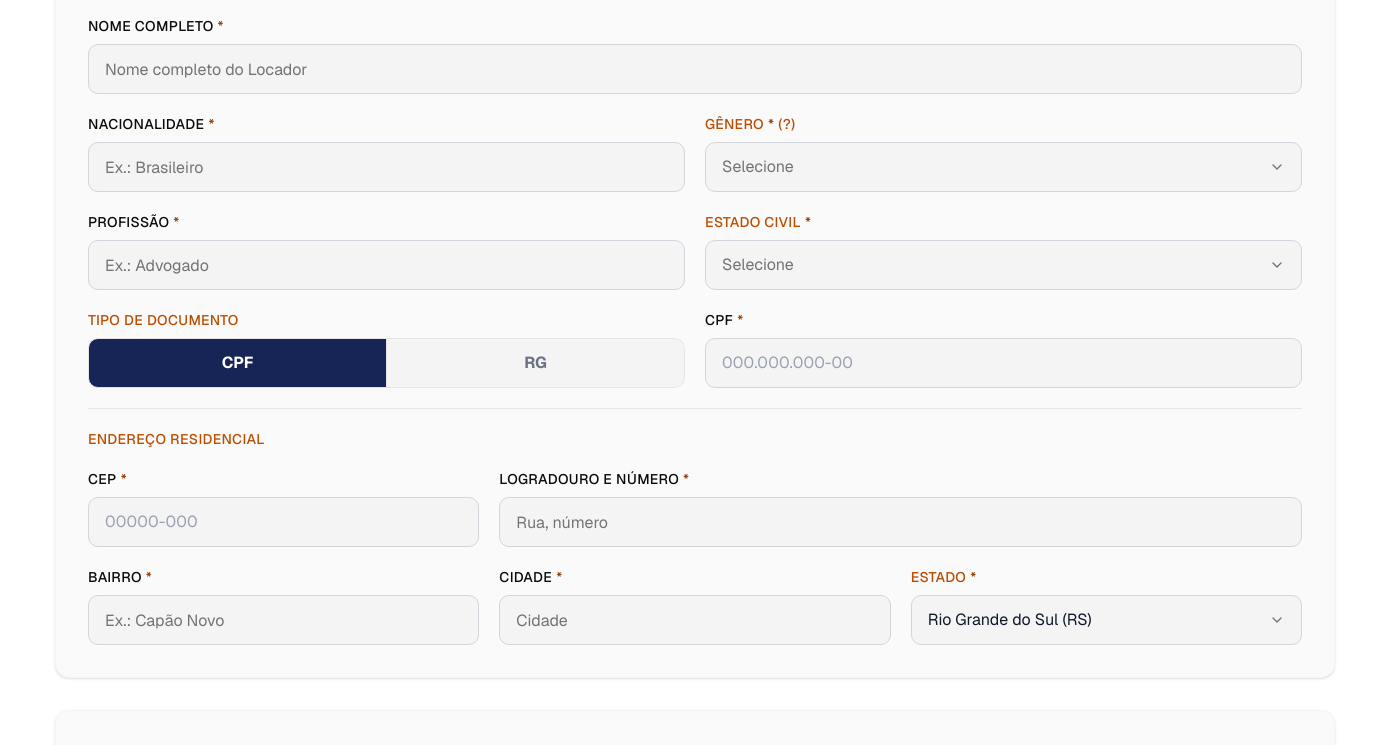
Scenario: RentalForm › should display error message if RG field input is too short
(page scrolled)
Click the radio button with aria-label "toggle RG": click(536, 363) [387, 338, 685, 388]
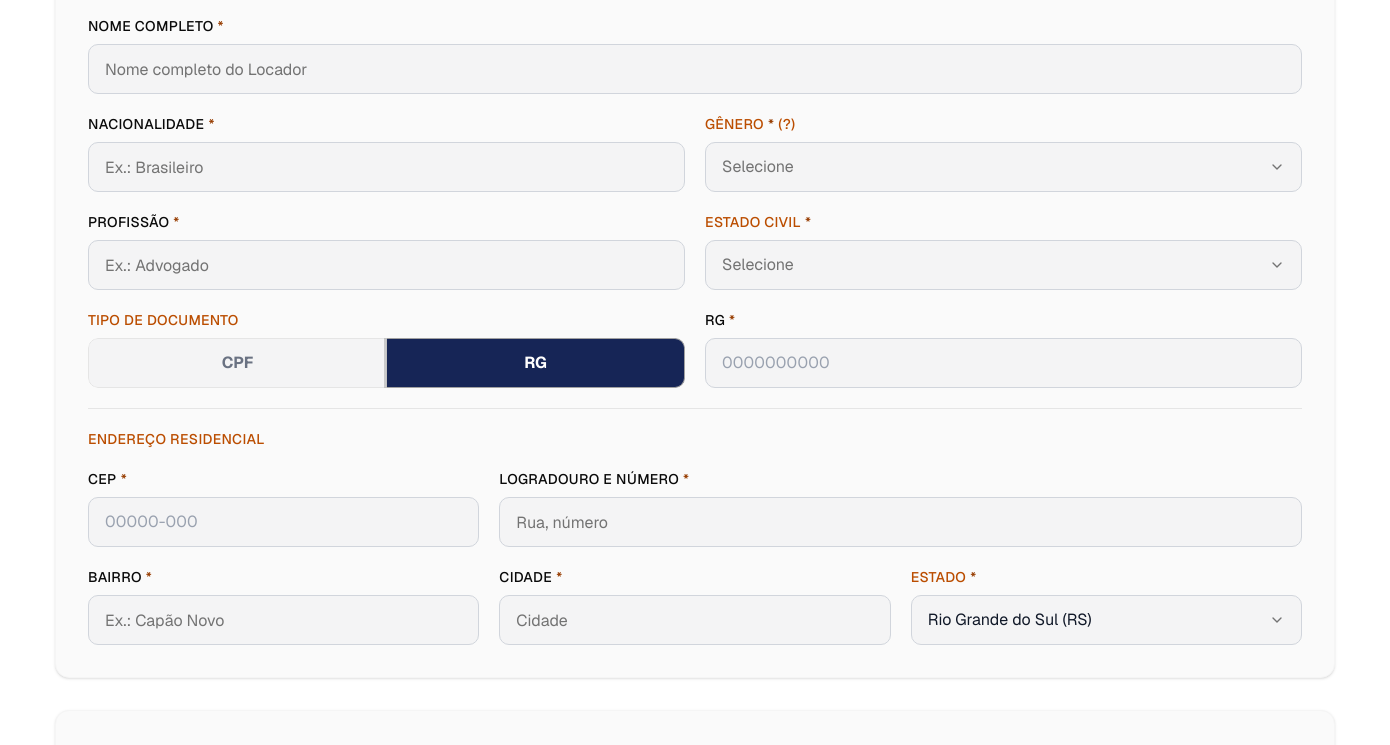
In the field with placeholder "0000000000": (1004, 363) [705, 338, 1302, 388], type "123"
(page scrolled)
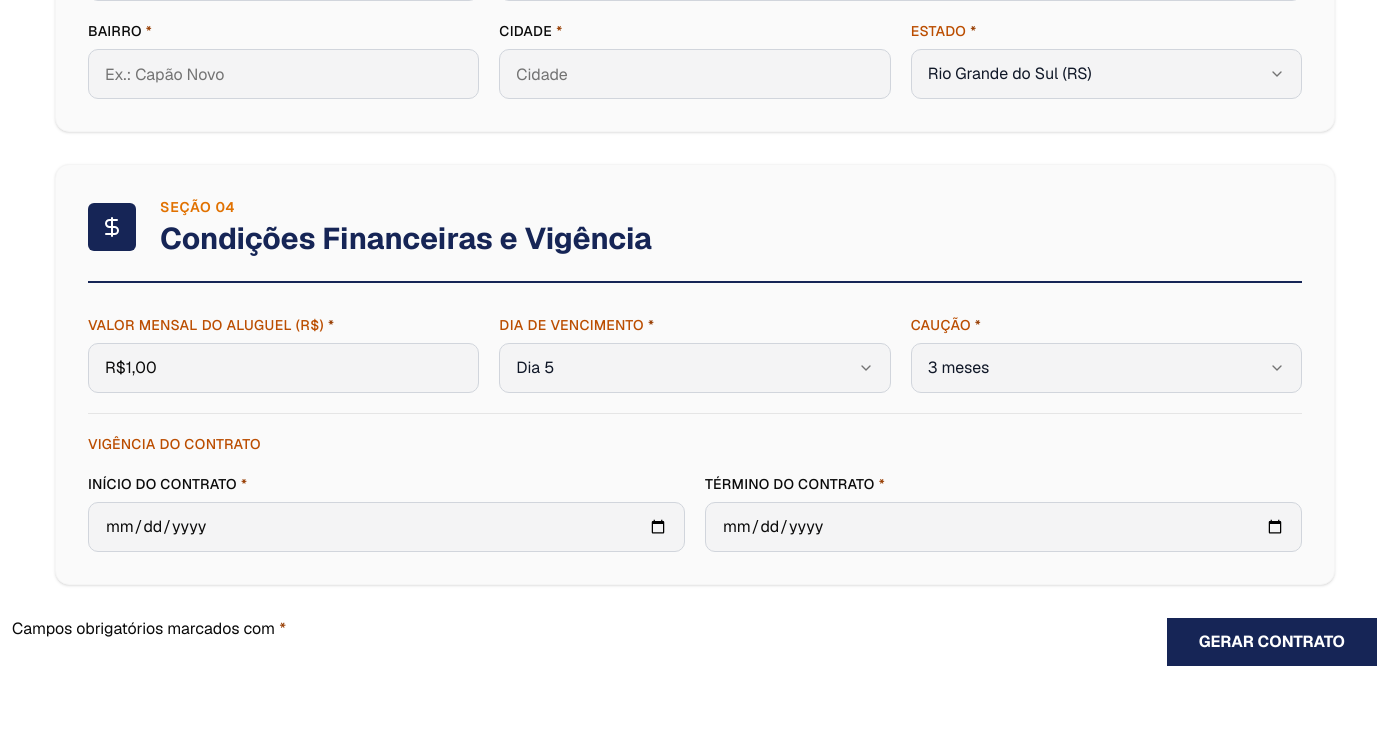
Click the button "gerar contrato": click(1272, 642) [1166, 617, 1378, 667]
(page scrolled)
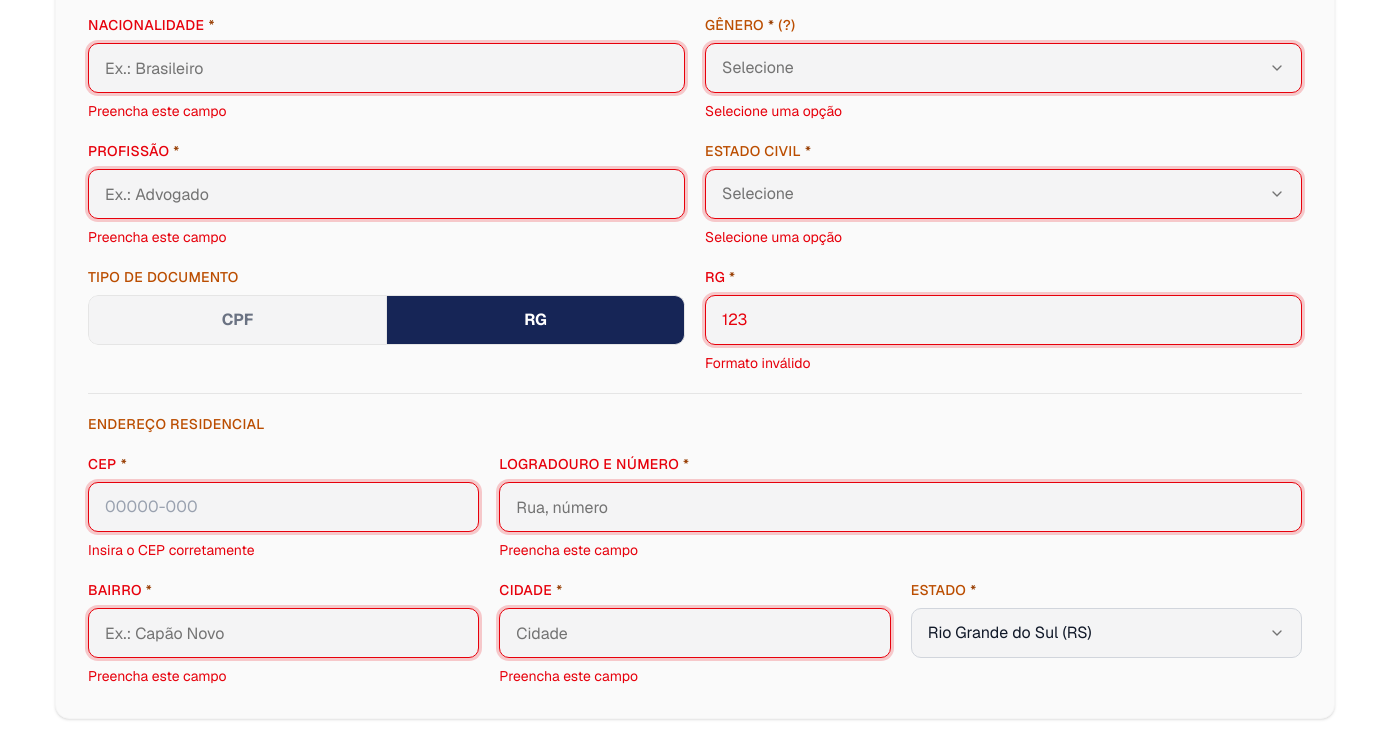
Check: the text "Formato inválido" is shown, box [705, 354, 810, 372]
